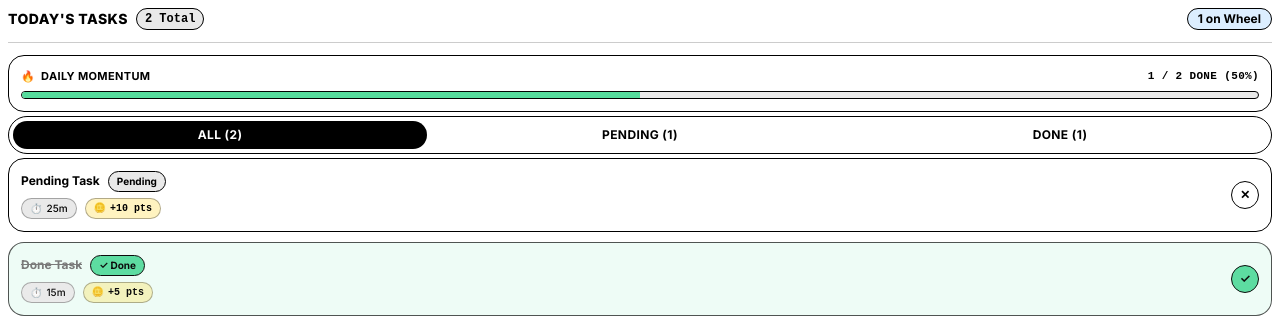
Scenario: components/TaskList (spec) › filters tasks by All, Pending, and Done tabs
Expected: the text "Pending Task" is shown, [21,173,100,189]
Expected: the text "Done Task" is shown, [21,257,82,273]
// Switch to Pending tab
Click the tab "Pending (1)" at [640, 134], box [433,120,847,148]
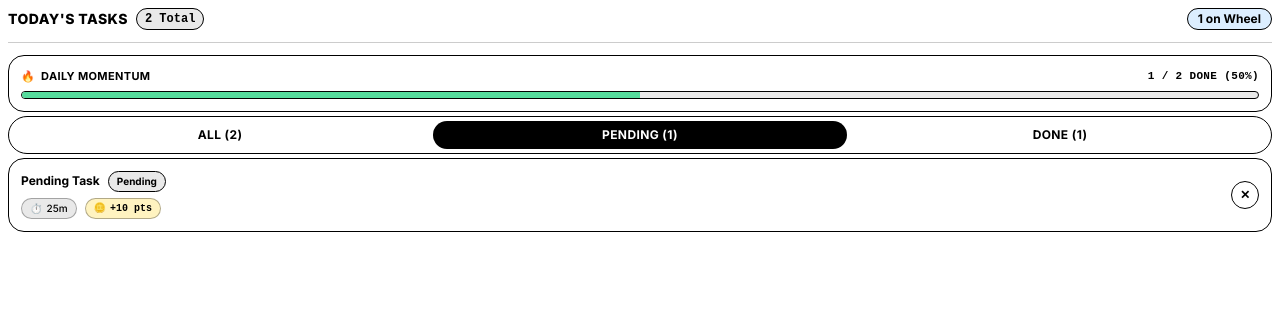
Expected: the text "Pending Task" is shown, [21,173,100,189]
Now the text "Done Task" is gone
// Switch to Done tab
Click the tab "Done (1)" at [1060, 134], box [853,120,1267,148]
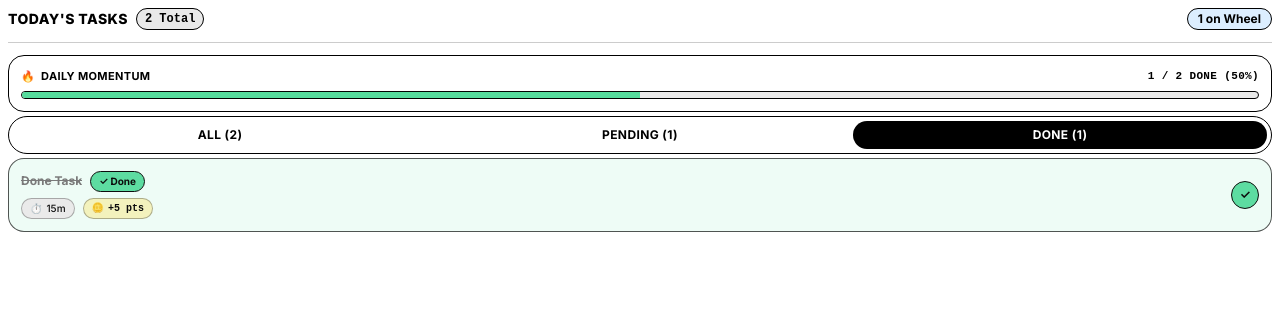
Now the text "Pending Task" is gone
Now the text "Done Task" is shown, box [21,173,82,189]
// Switch back to All tab
Click the tab "All (2)" at [220, 134], box [13,120,427,148]
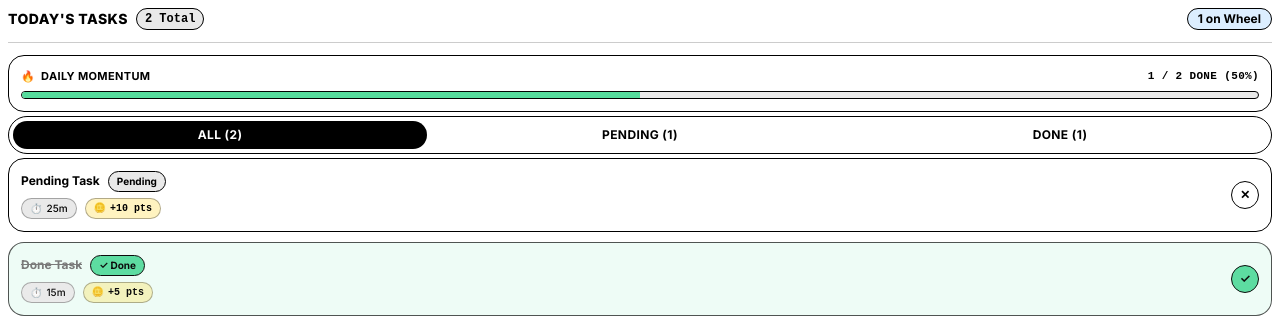
Now the text "Done Task" is shown, box [21,257,82,273]
Now the text "Pending Task" is shown, box [21,173,100,189]
